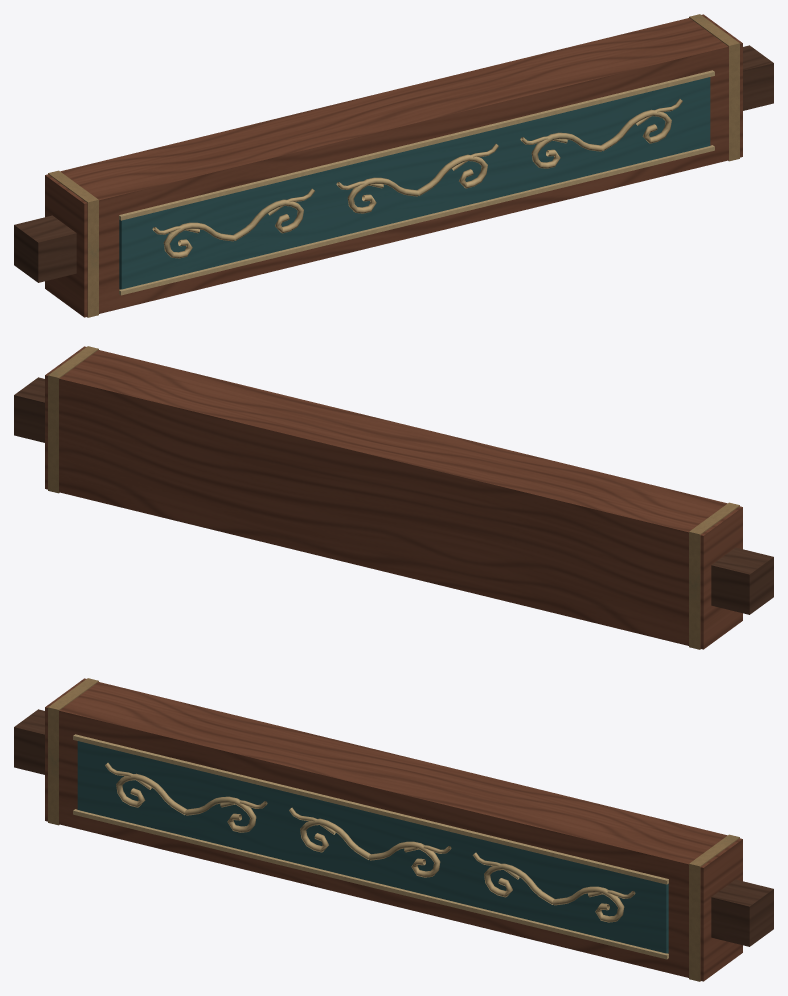
3 renders of one model, top to bottom at view 1: azimuth 30°, elevation 25°; view 2: azimuth 150°, elevation 25°; view 3: azimuth 330°, elevation 25°, orthographic.
Parts seen in each view (by area): view 1: TimberWithTenons_heartwood, PaintedFace_teal, PaintedFace_gold, TimberWithTenons_walnut, TimberWithTenons_bronze; view 2: TimberWithTenons_heartwood, TimberWithTenons_walnut, TimberWithTenons_bronze; view 3: TimberWithTenons_heartwood, PaintedFace_teal, PaintedFace_gold, TimberWithTenons_walnut, TimberWithTenons_bronze.
Boxes of the visible parts, box(x1,y1,x2,y2) form: TimberWithTenons_heartwood: box(45, 14, 742, 317); PaintedFace_teal: box(119, 77, 710, 289); PaintedFace_gold: box(119, 70, 714, 295); TimberWithTenons_walnut: box(14, 45, 773, 282); TimberWithTenons_bronze: box(48, 14, 739, 317); TimberWithTenons_heartwood: box(45, 346, 742, 649); TimberWithTenons_walnut: box(14, 377, 773, 614); TimberWithTenons_bronze: box(48, 346, 739, 649); TimberWithTenons_heartwood: box(45, 678, 742, 981); PaintedFace_teal: box(77, 741, 668, 953); PaintedFace_gold: box(73, 734, 668, 959); TimberWithTenons_walnut: box(14, 709, 773, 946); TimberWithTenons_bronze: box(48, 678, 739, 981).
Bounding box in the file's own units: 4.2 × 0.63 × 0.4485.
5 materials, 5 textured.
